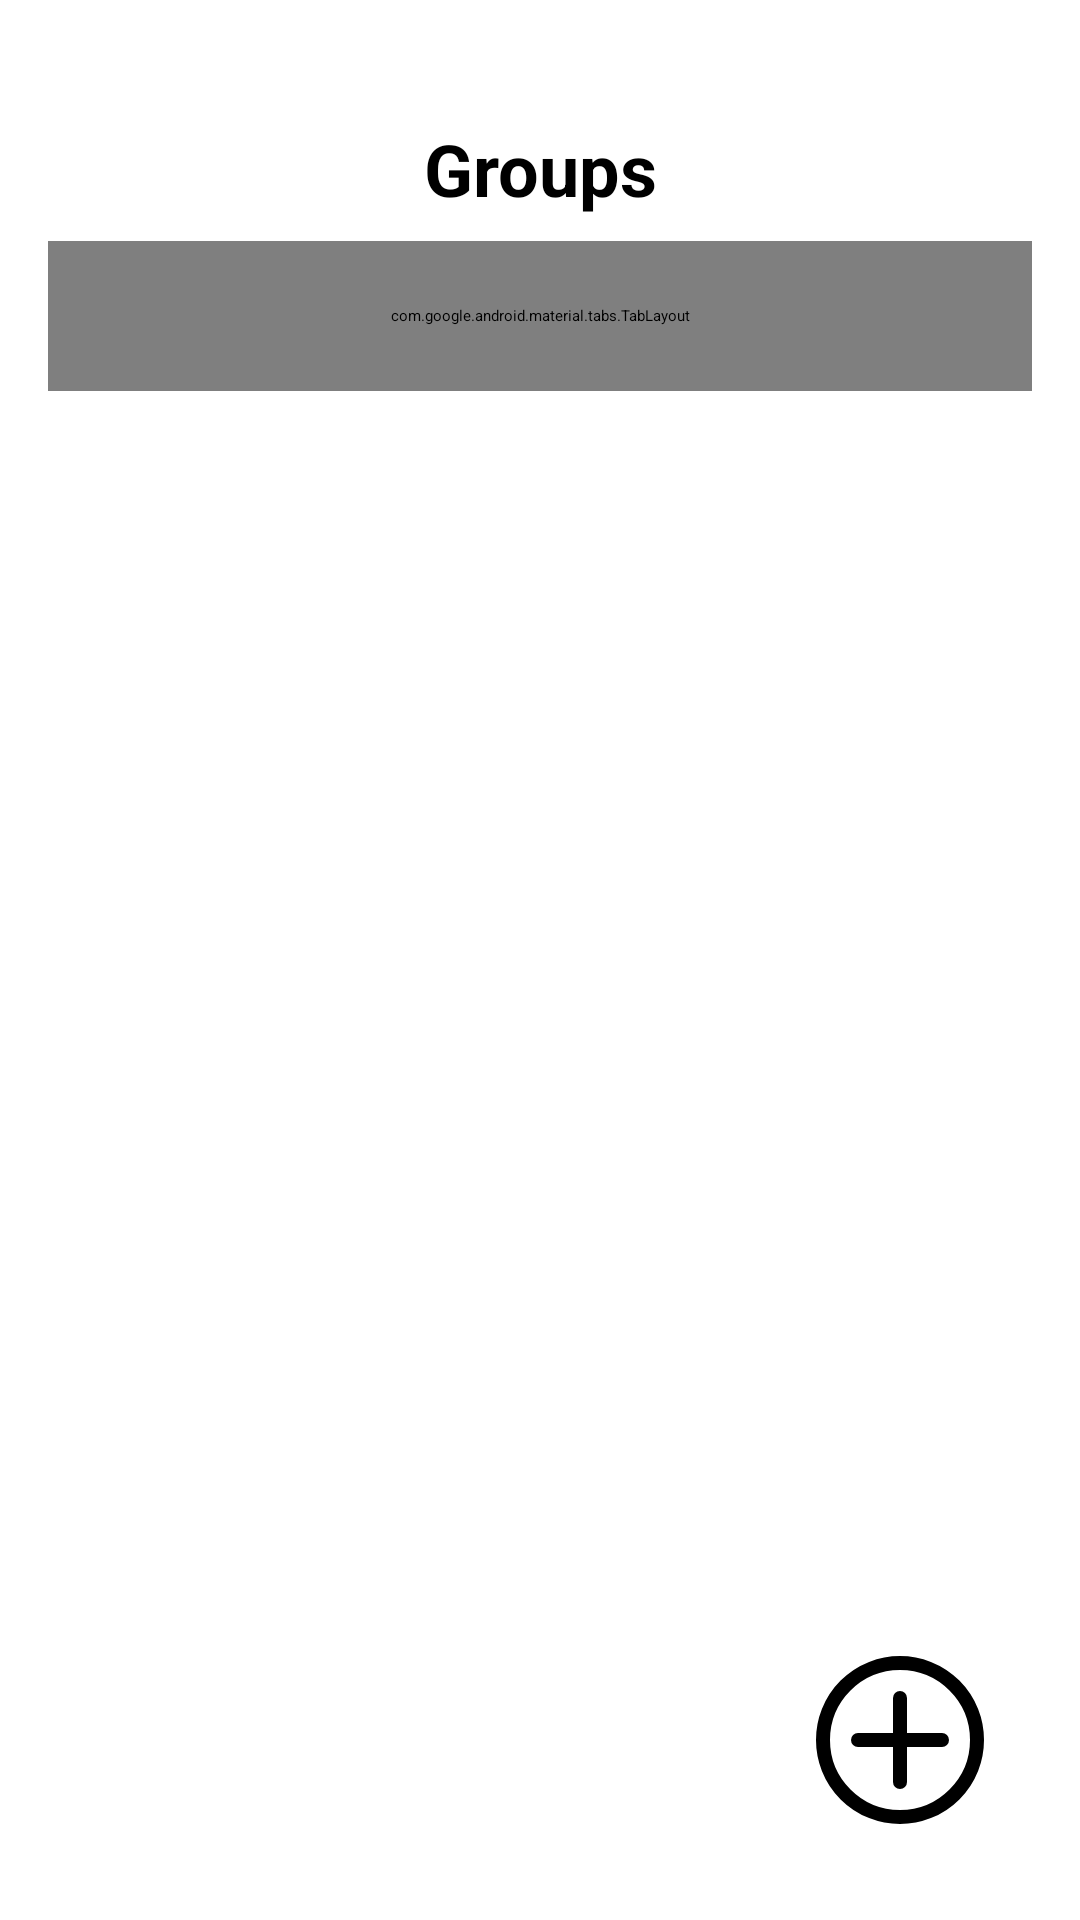

Named icons in this screenshot (1080×1920) and their centers, (x=x, y=y):
create group: (x=900, y=1740)
